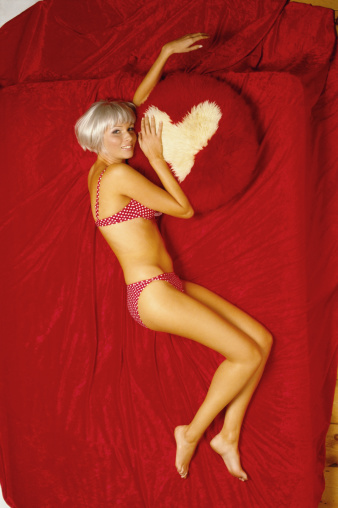deitado: (32, 72, 276, 505)
